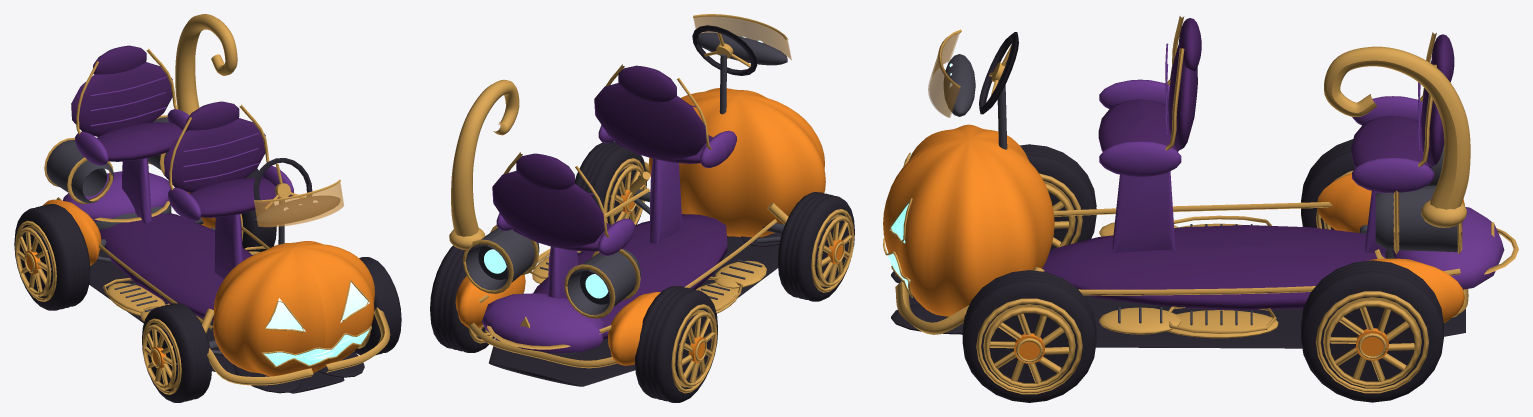
The model's file is A063-C02-tandem-runtime.glb.
3 renders of one model, left to right at view 1: azimuth 30°, elevation 25°; view 2: azimuth 150°, elevation 25°; view 3: azimuth 270°, elevation 25°, orthographic. The views are drawn at different scales.
Visible parts, largest first — view 1: Body, Wheel_RL, Wheel_FL, Wheel_FR, Wheel_RR; view 2: Body, Wheel_RL, Wheel_FL, Wheel_FR, Wheel_RR; view 3: Body, Wheel_RR, Wheel_FR, Wheel_FL, Wheel_RL.
Part boxes in pixels (x1,y1,x2,y2): Body: (43, 14, 390, 393); Wheel_RL: (14, 204, 90, 310); Wheel_FL: (142, 303, 211, 402); Wheel_FR: (354, 257, 401, 355); Wheel_RR: (240, 168, 276, 251); Body: (449, 14, 825, 386); Wheel_RL: (635, 286, 717, 402); Wheel_FL: (778, 192, 854, 301); Wheel_FR: (575, 141, 646, 225); Wheel_RR: (430, 245, 494, 352); Body: (883, 16, 1518, 348); Wheel_RR: (1301, 260, 1443, 402); Wheel_FR: (962, 270, 1096, 402); Wheel_FL: (1020, 144, 1096, 250); Wheel_RL: (1301, 139, 1355, 230).
Bounding box in the file's own units: 0.5777 × 0.5786 × 1.
